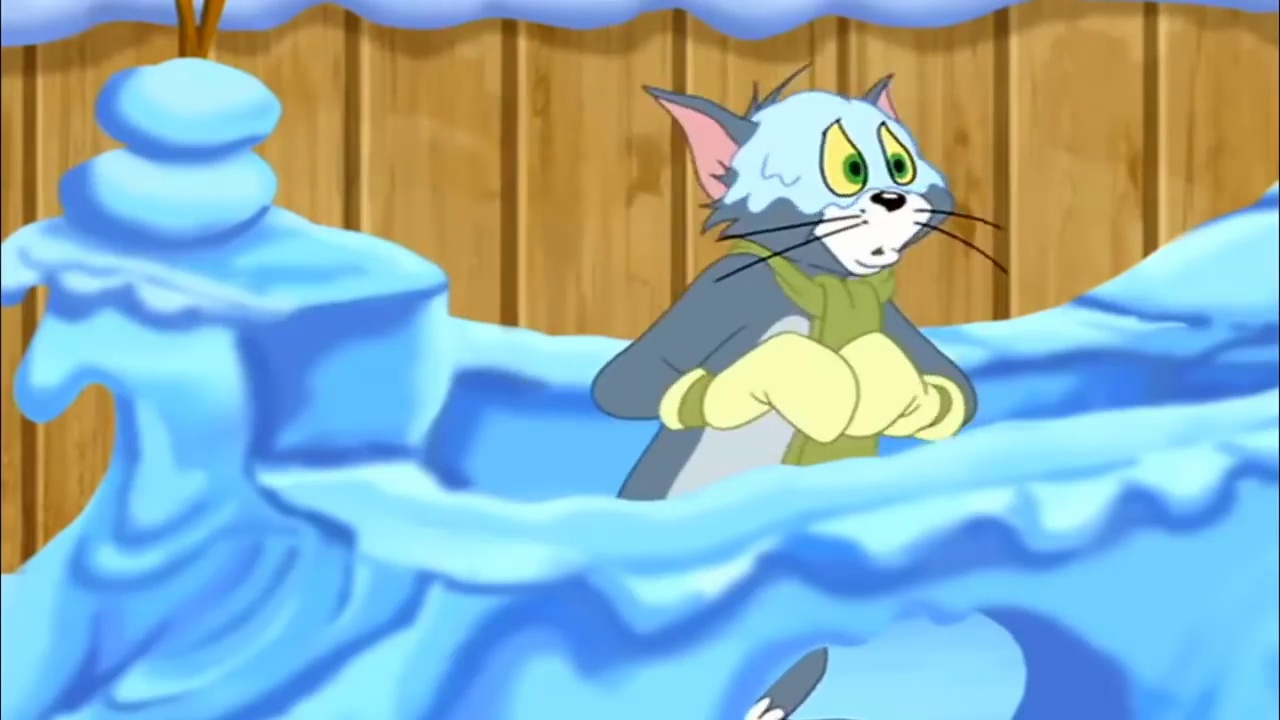face: (784, 106, 939, 277)
